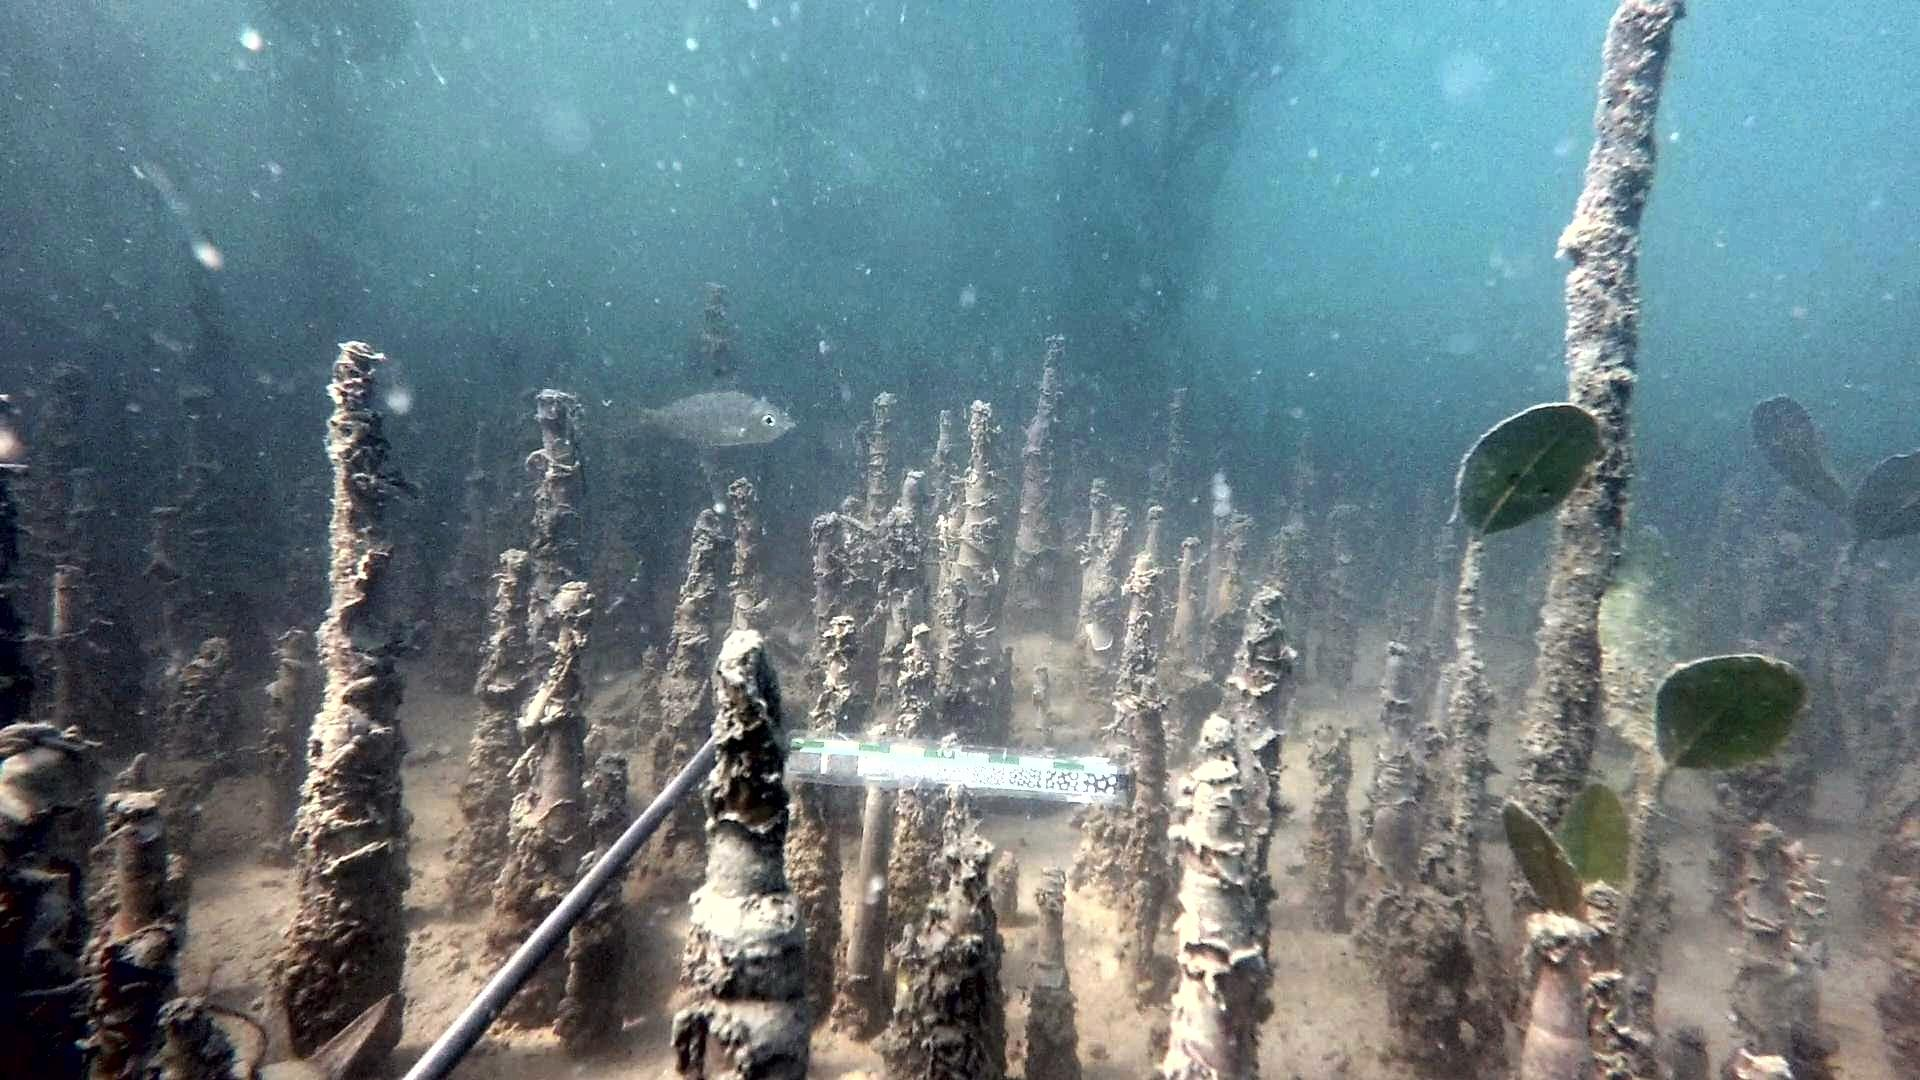gerres: (610, 366, 798, 452)
